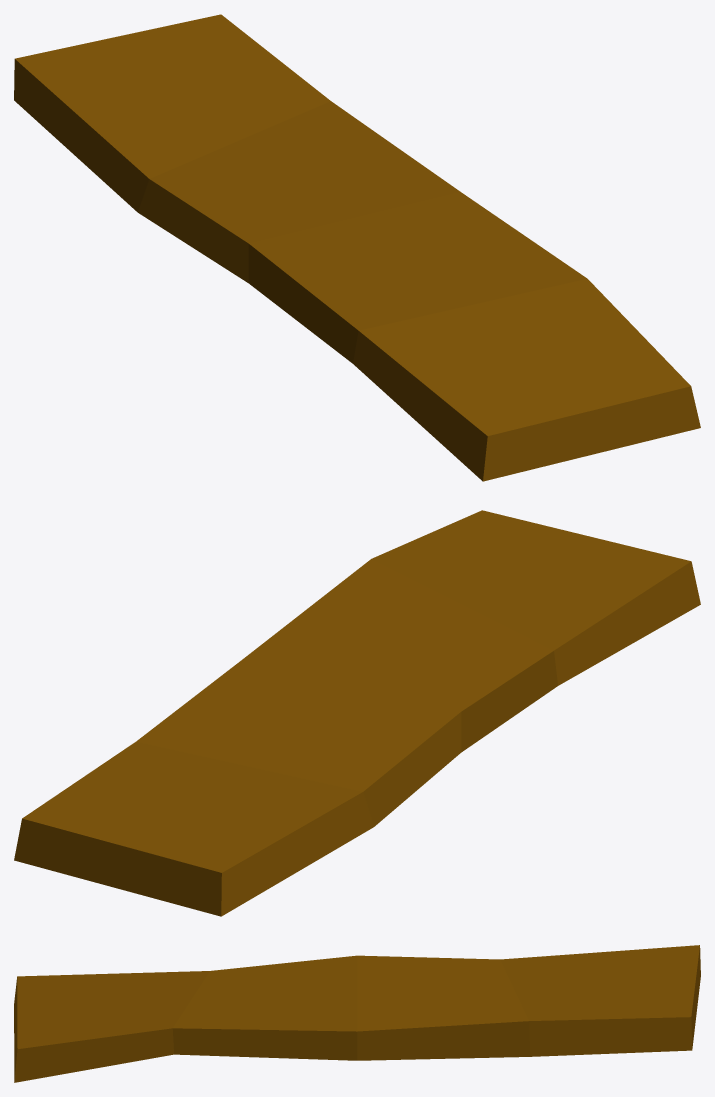
Rendered from board2.fbx.
3 renders of one model, top to bottom at view 1: azimuth 30°, elevation 25°; view 2: azimuth 150°, elevation 25°; view 3: azimuth 270°, elevation 25°, orthographic. The views are drawn at different scales.
Visible parts, largest first — view 1: Board; view 2: Board; view 3: Board.
Part boxes in pixels (<box>): Board: <box>14,14,700,481</box>; Board: <box>14,510,700,916</box>; Board: <box>14,945,700,1082</box>.
Size of the model in its own units: 212 by 70.87 by 743.
